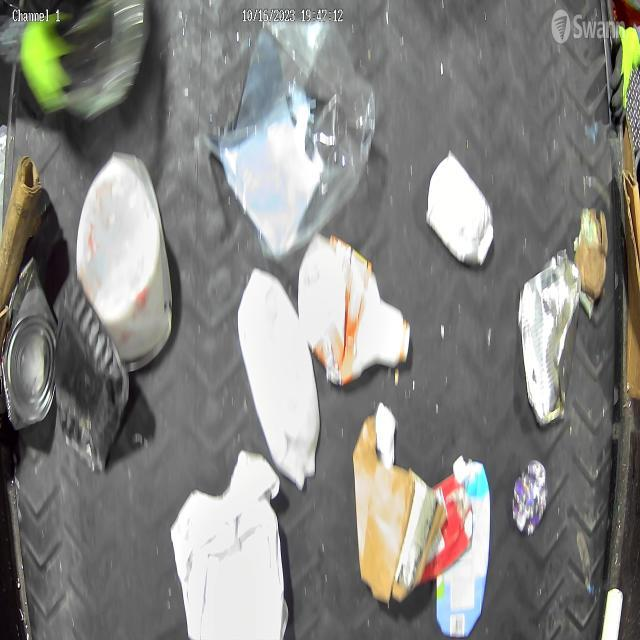can: (517, 248, 582, 426), (0, 256, 58, 430), (511, 456, 549, 536)
milk_jug: (236, 268, 322, 493)
non_white_jug: (296, 230, 412, 384)
